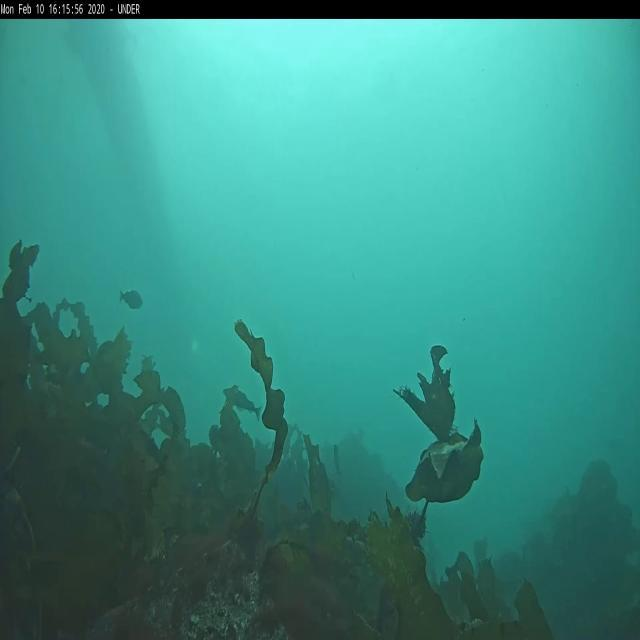fish: (224, 385, 262, 423), (120, 290, 142, 309)
